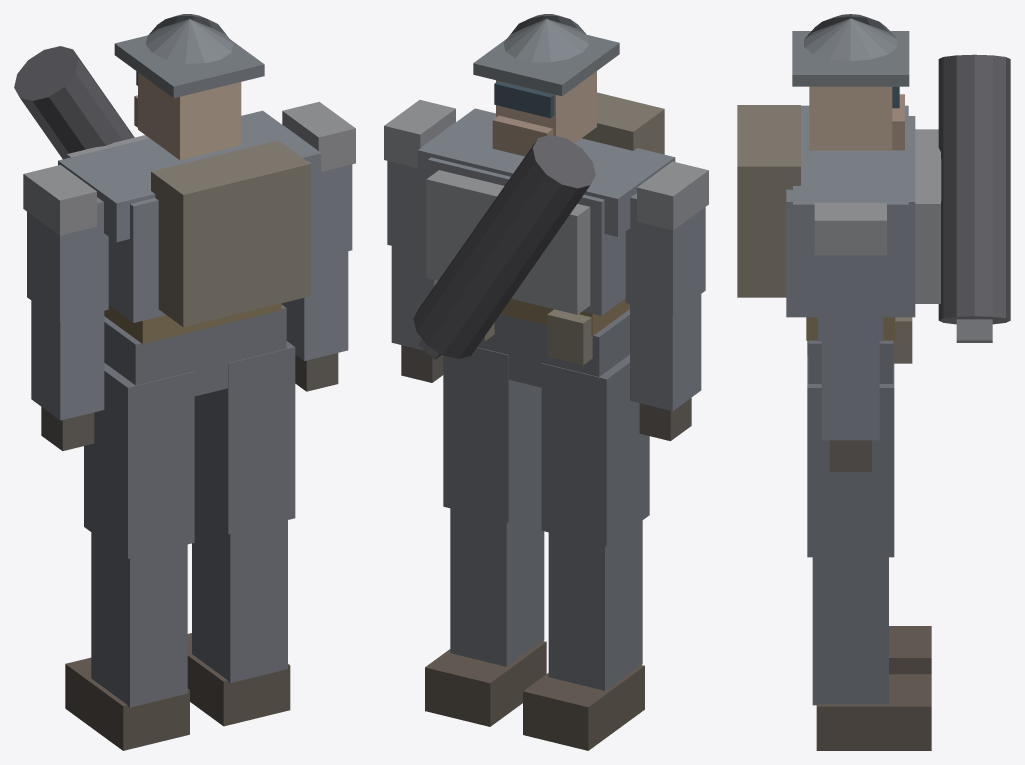
File: western_mercenary.glb
The picture shows the model from 3 angles, left to right: view 1: azimuth 30°, elevation 25°; view 2: azimuth 150°, elevation 25°; view 3: azimuth 270°, elevation 25°; orthographic projection. The views are drawn at different scales.
Visible parts, largest first — view 1: Pack, LegLeft, LegRight, ShinLeft, ShinRight, Pelvis, Yoke, Launcher, ForearmLeft, ArmLeft, Head, Boot (+11 smaller); view 2: LegLeft, Launcher, LegRight, ShinLeft, ShinRight, Armour, Yoke, ForearmLeft, ArmLeft, Boot, Boot.001, Pelvis (+15 smaller); view 3: Launcher, ShinRight, LegRight, Pack, Yoke, Boot.001, Body, ForearmRight, ArmRight, Head, Armour, HelmetRim (+9 smaller).
Boxes of the visible parts, x1,y1,x2,y2 form: Pack: [151, 140, 310, 327]; LegLeft: [84, 363, 194, 558]; LegRight: [194, 341, 295, 534]; ShinLeft: [91, 532, 187, 707]; ShinRight: [192, 510, 287, 682]; Pelvis: [104, 305, 286, 396]; Yoke: [58, 110, 321, 242]; Launcher: [14, 46, 134, 159]; ForearmLeft: [31, 300, 104, 420]; ArmLeft: [27, 197, 108, 321]; Head: [138, 72, 241, 160]; Boot: [65, 657, 189, 750]; LegLeft: [541, 355, 649, 546]; Launcher: [413, 134, 595, 358]; LegRight: [443, 347, 541, 522]; ShinLeft: [548, 520, 642, 690]; ShinRight: [450, 498, 544, 666]; Armour: [426, 170, 590, 314]; Yoke: [417, 108, 675, 236]; ForearmLeft: [630, 294, 701, 411]; ArmLeft: [625, 193, 705, 314]; Boot: [523, 665, 644, 750]; Boot.001: [425, 641, 546, 726]; Pelvis: [477, 309, 629, 387]; Launcher: [938, 54, 1010, 324]; ShinRight: [812, 557, 888, 705]; LegRight: [807, 355, 894, 557]; Pack: [737, 105, 800, 297]; Yoke: [793, 105, 908, 242]; Boot.001: [816, 674, 931, 750]; Body: [786, 116, 915, 317]; ForearmRight: [821, 341, 879, 440]; ArmRight: [818, 255, 883, 341]; Head: [809, 86, 892, 150]; Armour: [915, 129, 940, 303]; HelmetRim: [792, 31, 909, 86].
Size of the model in its own units: 0.7964 by 1.8 by 0.6436.
